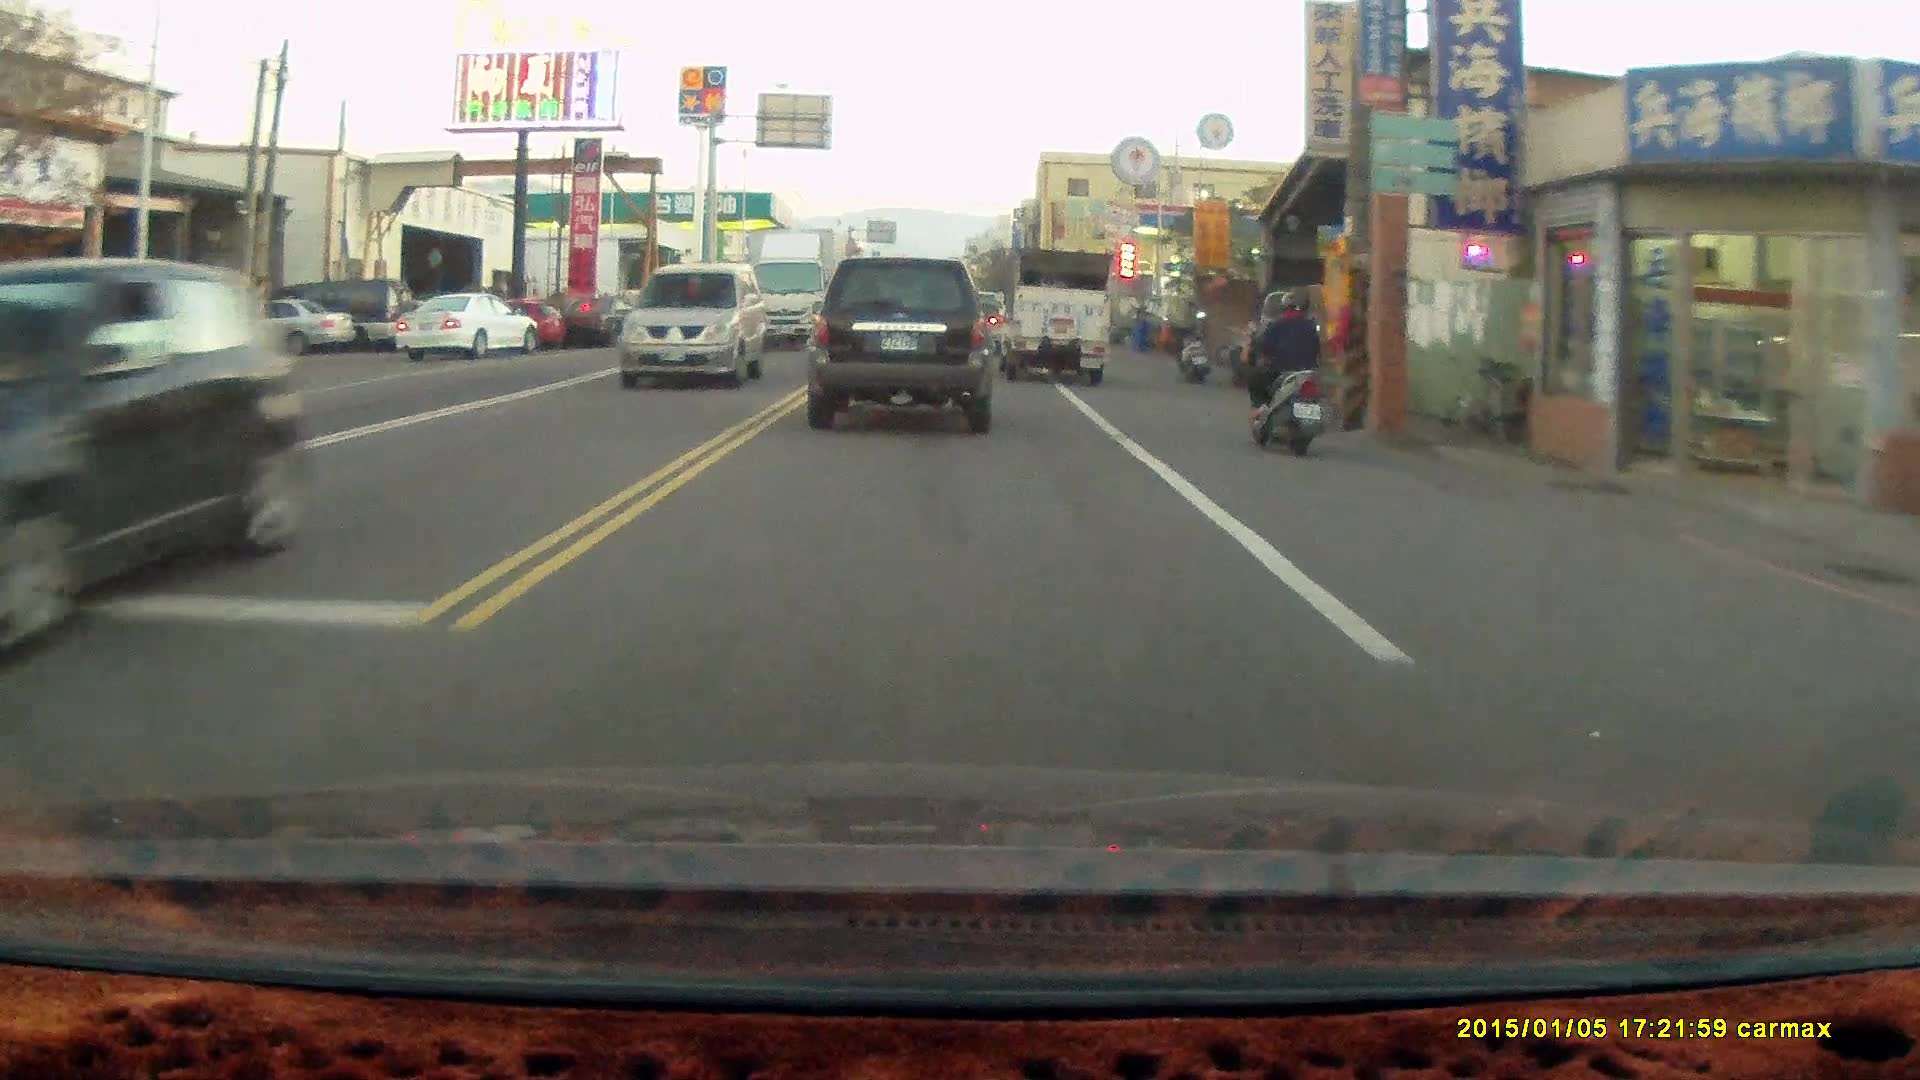rider: (1234, 286, 1328, 455)
vehicle: (1, 254, 312, 665), (805, 256, 998, 434), (620, 261, 770, 386), (995, 247, 1112, 387), (396, 292, 541, 361), (224, 297, 358, 361)
